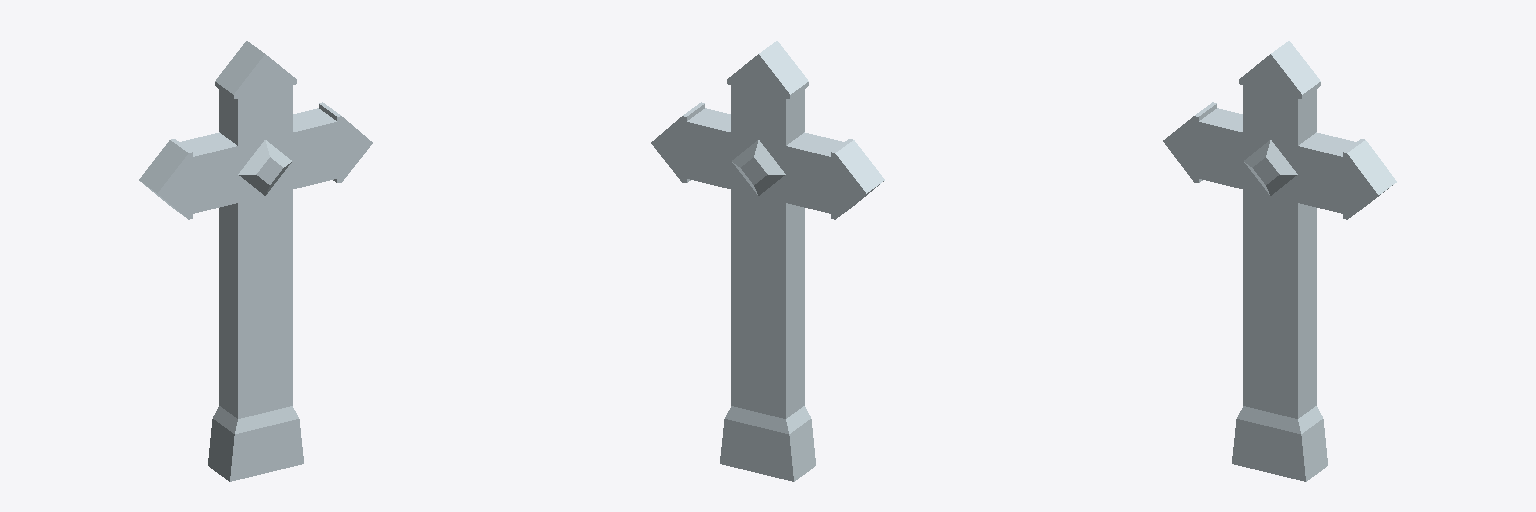
The model's file is cross.obj.
3 renders of one model, left to right at view 1: azimuth 30°, elevation 25°; view 2: azimuth 150°, elevation 25°; view 3: azimuth 330°, elevation 25°, orthographic.
Parts seen in each view (by area): view 1: cross; view 2: cross; view 3: cross.
Boxes of the visible parts, box(x1,y1,x2,y2) form: cross: box(139, 41, 372, 481); cross: box(651, 41, 884, 481); cross: box(1163, 41, 1396, 481).
Size of the model in its own units: 0.5355 by 0.99 by 0.12.